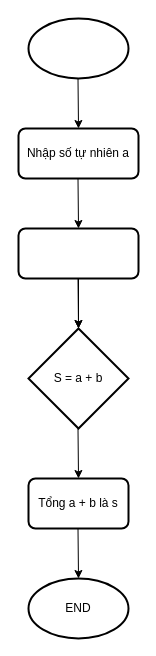
This 156x656 diagram has some shape labels left out. Each missing label, with the centre of its shape:
Nhập số tự nhiên b: the point at 78,253
Start: the point at 78,48
